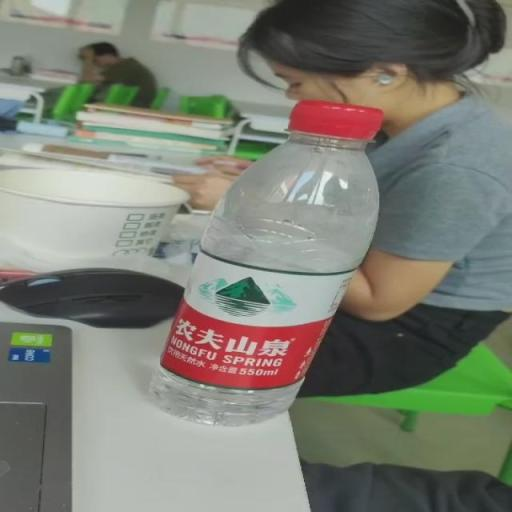plastic: (153, 101, 384, 430)
